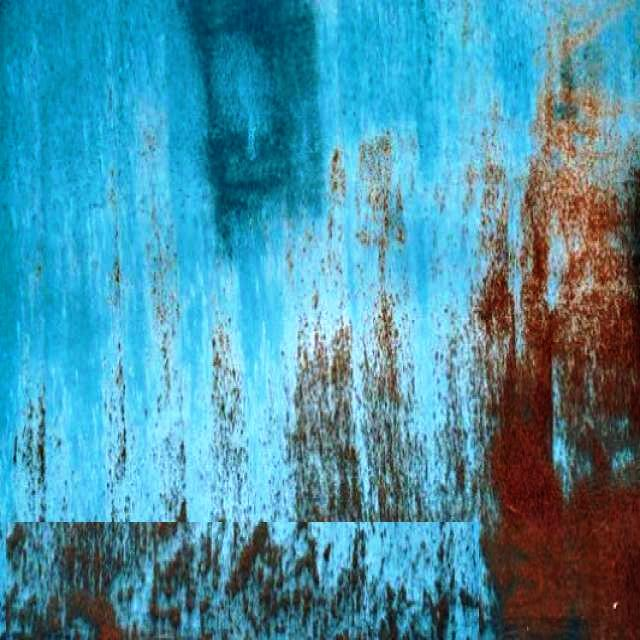Corrosion: (479, 19, 640, 640), (2, 524, 499, 640)
